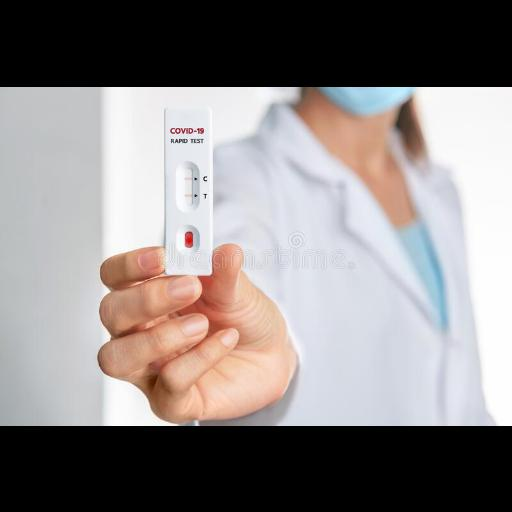Pos: (164, 106, 214, 272)
